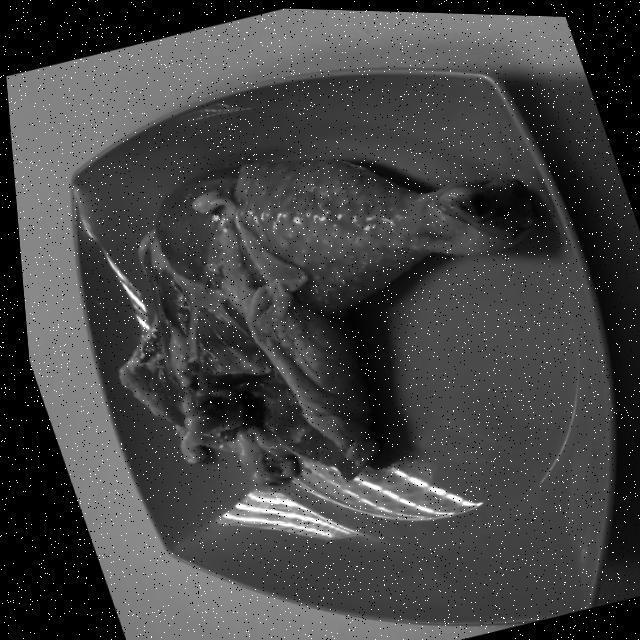quater: (117, 162, 545, 478)
